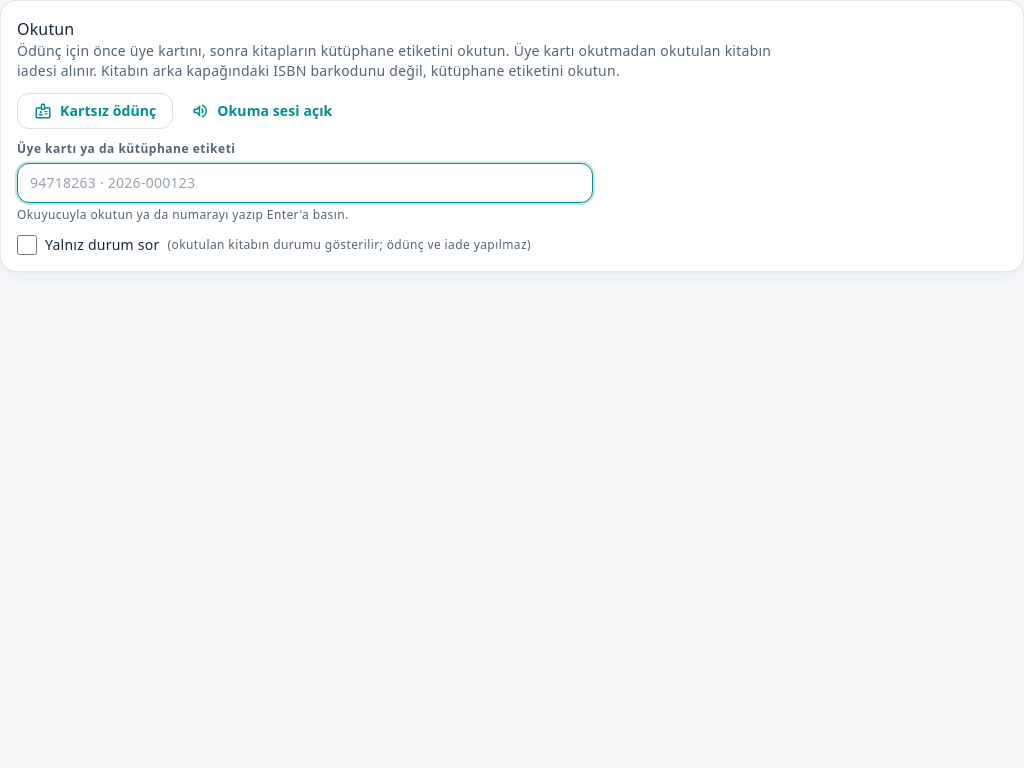
Test: Boş | kart › yönetici kipinde sınıf, üye türü ve açık ödünçler görünür
Step 1. Type "94718263" into the field labelled "Üye kartı ya da kütüphane etiketi" → (305, 183), box [30,173,580,193]
Then press Enter
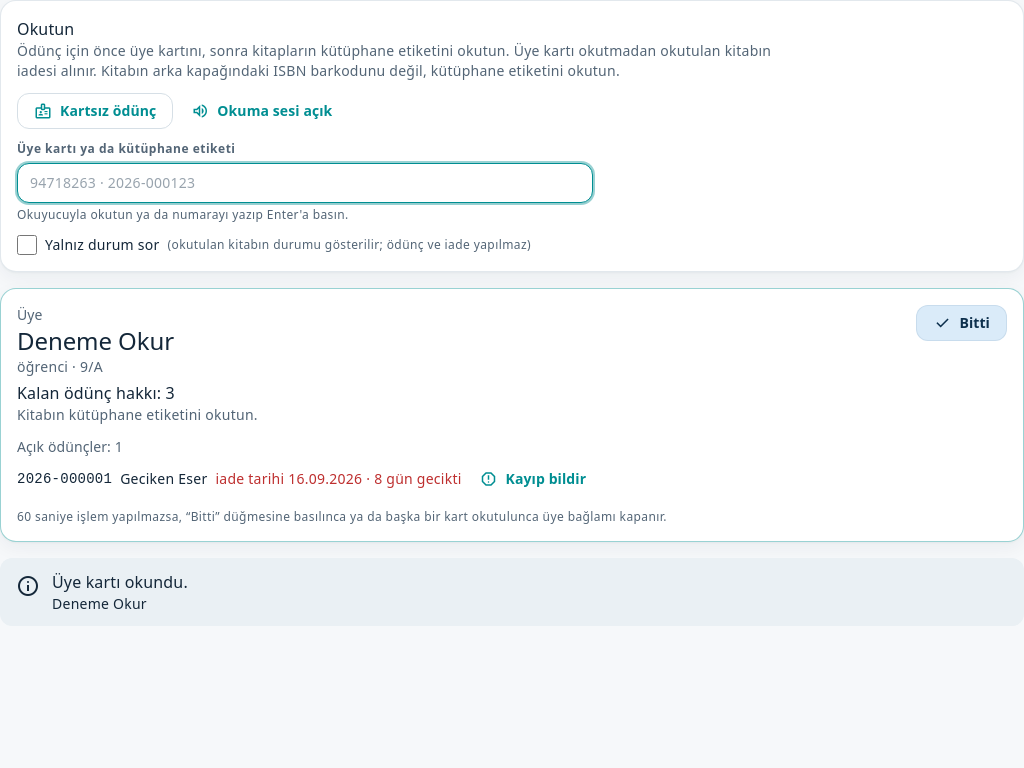
Expected: the text "öğrenci · 9/A" is shown, [17,357,103,376]
Expected: the text "Geciken Eser" is shown, [120,469,208,489]
Expected: the text "iade tarihi 16.09.2026 · 8 gün gecikti" is shown, [215,469,462,489]
